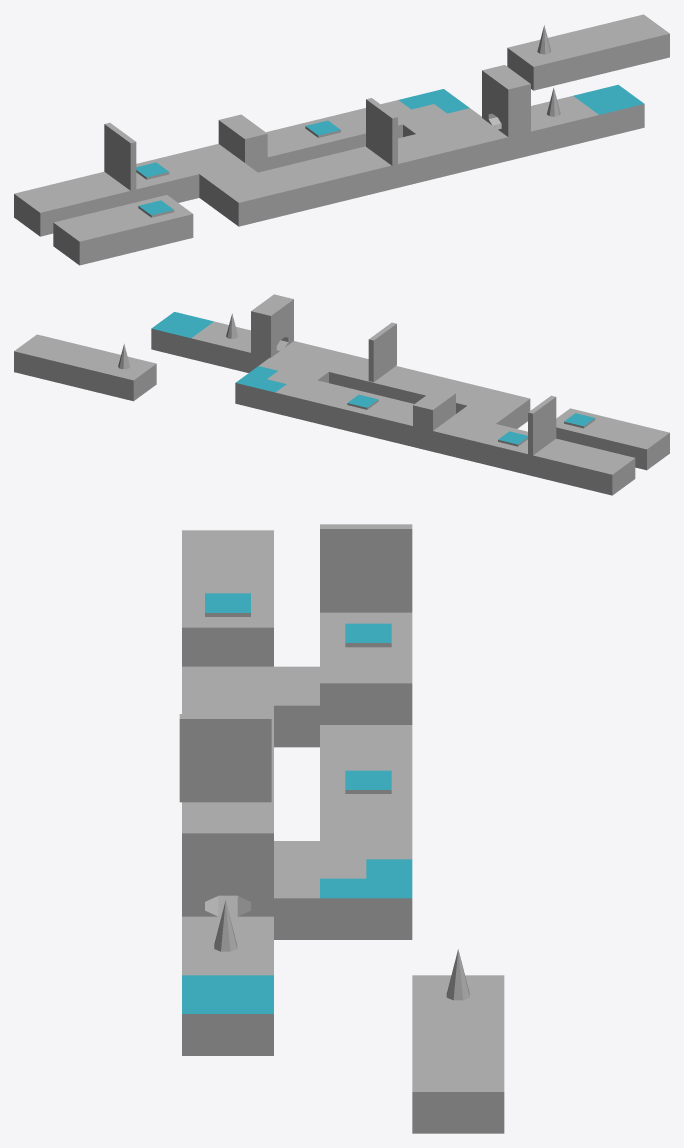
File: FirstLevel.fbx
The picture shows the model from 3 angles, top to bottom: view 1: azimuth 30°, elevation 25°; view 2: azimuth 150°, elevation 25°; view 3: azimuth 270°, elevation 25°; orthographic projection. The views are drawn at different scales.
Parts seen in each view (by area): view 1: BoxBrush3, BoxBrush41, BoxBrush36, BoxBrush93, BoxBrush114, BoxBrush2, BoxBrush44, BoxBrush65, BoxBrush75, BoxBrush120, BoxBrush102, BoxBrush37 (+45 smaller); view 2: BoxBrush113, BoxBrush40, BoxBrush, BoxBrush94, BoxBrush4, BoxBrush44, BoxBrush65, BoxBrush101, BoxBrush9, BoxBrush68, BoxBrush86, BoxBrush109 (+42 smaller); view 3: BoxBrush44, BoxBrush65, BoxBrush64, BoxBrush21, BoxBrush86, BoxBrush87, BoxBrush123, BoxBrush124, BoxBrush40, BoxBrush41, BoxBrush34, BoxBrush90 (+49 smaller).
Part boxes in pixels (x1=…): BoxBrush3: x1=66, y1=226, x2=102, y2=265; BoxBrush41: x1=231, y1=124, x2=267, y2=162; BoxBrush36: x1=225, y1=188, x2=261, y2=226; BoxBrush93: x1=495, y1=74, x2=530, y2=113; BoxBrush114: x1=520, y1=53, x2=556, y2=90; BoxBrush2: x1=27, y1=198, x2=62, y2=236; BoxBrush44: x1=104, y1=122, x2=136, y2=166; BoxBrush65: x1=366, y1=98, x2=397, y2=142; BoxBrush75: x1=407, y1=143, x2=442, y2=182; BoxBrush120: x1=589, y1=35, x2=624, y2=73; BoxBrush102: x1=564, y1=105, x2=599, y2=144; BoxBrush37: x1=249, y1=182, x2=284, y2=220; BoxBrush113: x1=113, y1=368, x2=145, y2=401; BoxBrush40: x1=413, y1=397, x2=444, y2=430; BoxBrush: x1=592, y1=461, x2=623, y2=495; BoxBrush94: x1=251, y1=302, x2=282, y2=336; BoxBrush4: x1=627, y1=436, x2=658, y2=470; BoxBrush44: x1=528, y1=395, x2=556, y2=434; BoxBrush65: x1=368, y1=322, x2=396, y2=361; BoxBrush101: x1=191, y1=330, x2=222, y2=363; BoxBrush9: x1=552, y1=452, x2=583, y2=485; BoxBrush68: x1=313, y1=393, x2=344, y2=427; BoxBrush86: x1=235, y1=374, x2=266, y2=408; BoxBrush109: x1=151, y1=320, x2=182, y2=353; BoxBrush44: x1=320, y1=524, x2=412, y2=570; BoxBrush65: x1=179, y1=714, x2=271, y2=760; BoxBrush64: x1=179, y1=760, x2=271, y2=802; BoxBrush21: x1=320, y1=571, x2=412, y2=612; BoxBrush86: x1=366, y1=878, x2=412, y2=939; BoxBrush87: x1=320, y1=878, x2=366, y2=939; BoxBrush123: x1=458, y1=1072, x2=504, y2=1133; BoxBrush124: x1=412, y1=1072, x2=458, y2=1133; BoxBrush40: x1=366, y1=664, x2=412, y2=724; BoxBrush41: x1=320, y1=664, x2=366, y2=724; BoxBrush34: x1=274, y1=686, x2=319, y2=747; BoxBrush90: x1=274, y1=878, x2=319, y2=939.
Size of the model in its own units: 5770 by 1410 by 600.
